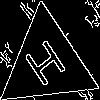H: (22, 38, 74, 97)
